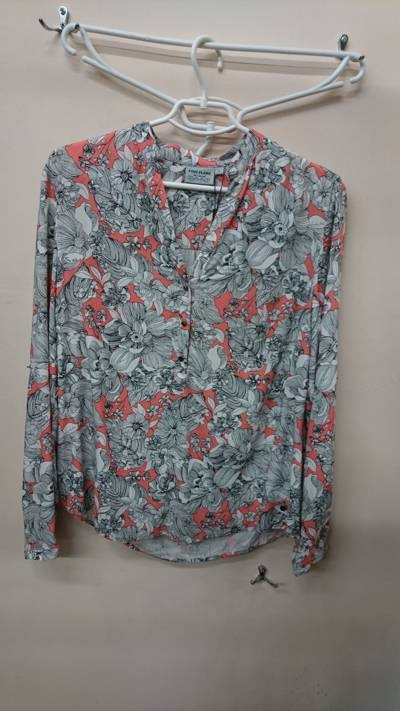Blouse: (15, 49, 347, 605)
